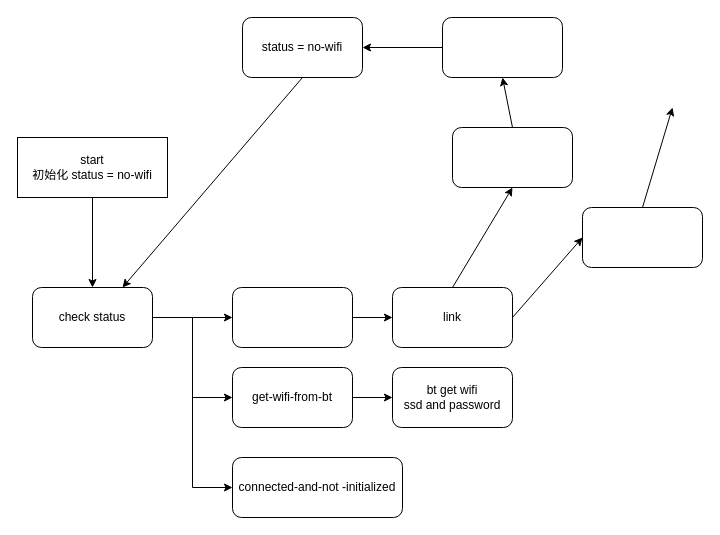
The diagram is 720 pixels wide and 535 high, and some of its shapes have lost their labels. Each missing label, with the centre of its shape:
"fail" goes at (x=512, y=157).
"has next-wifi" goes at (x=502, y=47).
"no-wifi" goes at (x=292, y=317).
"success" goes at (x=642, y=237).
